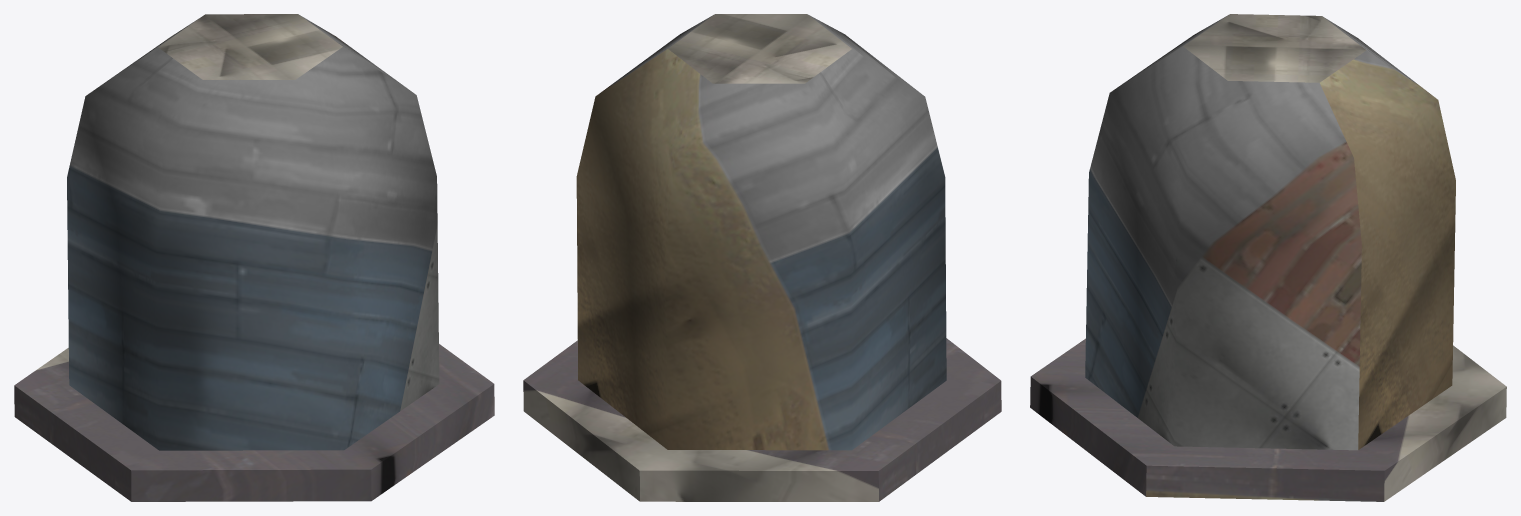
Rendered from tankone.obj.
3 views of the same model, side by side, from view 1: azimuth 30°, elevation 25°; view 2: azimuth 150°, elevation 25°; view 3: azimuth 270°, elevation 25° (orthographic).
Visible parts, largest first — view 1: pCylinder36; view 2: pCylinder36; view 3: pCylinder36.
Boxes of the visible parts, box(x1,y1,x2,y2) form: pCylinder36: box(14, 14, 494, 501); pCylinder36: box(523, 14, 1001, 501); pCylinder36: box(1030, 14, 1506, 501).
Bounding box in the file's own units: 469 × 459 × 537.
